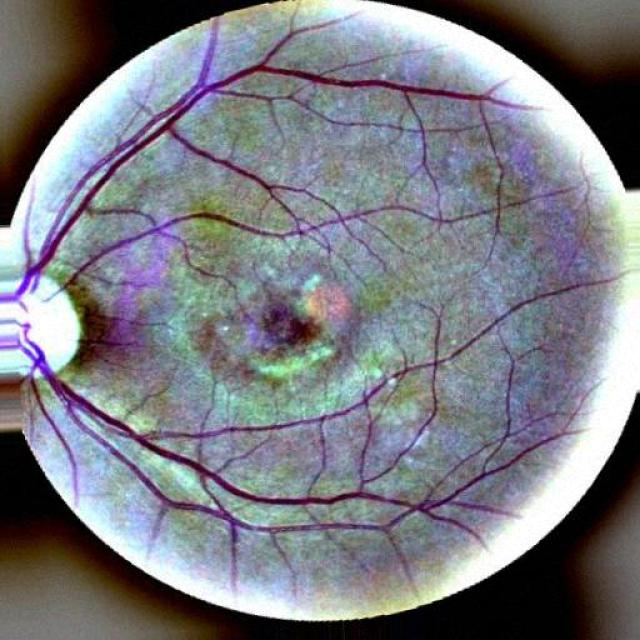Macula: (248, 275, 338, 378)
Nerves: (16, 321, 461, 586), (4, 20, 292, 310), (56, 152, 320, 292), (86, 314, 144, 356)
Optic Disk: (0, 262, 80, 380)
